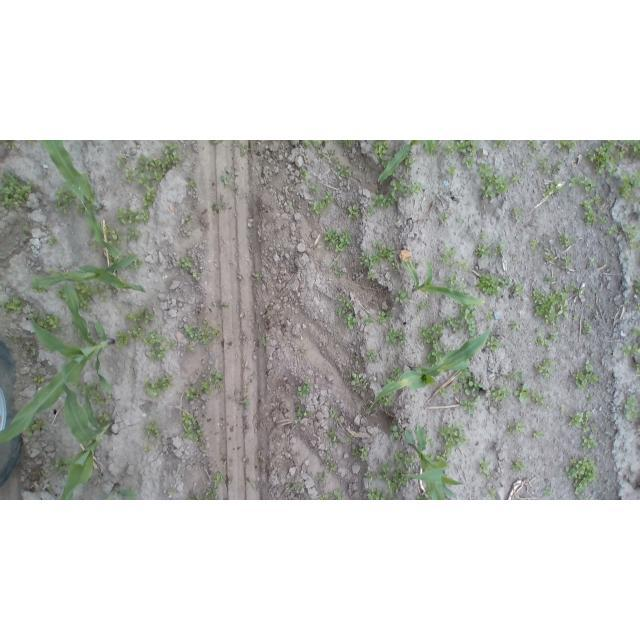Maize: (2, 272, 117, 444), (372, 315, 491, 414), (54, 360, 114, 501), (24, 253, 146, 295), (403, 426, 463, 500), (44, 141, 103, 214), (408, 255, 483, 305), (378, 141, 435, 180), (103, 485, 133, 500)
Weeds: (115, 140, 181, 224), (116, 308, 174, 361), (531, 283, 585, 328), (589, 141, 640, 176), (452, 370, 486, 415), (362, 241, 399, 281), (1, 173, 37, 213), (370, 180, 421, 207), (564, 458, 597, 499), (184, 317, 221, 353), (479, 163, 510, 202), (185, 372, 223, 403), (378, 460, 413, 493), (417, 324, 443, 368), (444, 305, 476, 338), (438, 424, 466, 461), (334, 292, 359, 331), (78, 283, 111, 312), (573, 359, 599, 389), (323, 228, 353, 253), (75, 380, 106, 404), (144, 373, 175, 397), (479, 272, 510, 296), (580, 194, 601, 224), (182, 411, 202, 441), (569, 172, 598, 192), (309, 192, 334, 215), (54, 186, 74, 214), (443, 140, 477, 156), (619, 172, 639, 199), (568, 411, 591, 433), (534, 358, 558, 378), (491, 383, 514, 403), (394, 450, 415, 470), (536, 331, 559, 349), (538, 158, 561, 176), (2, 298, 25, 315), (36, 316, 62, 331), (350, 444, 372, 461), (625, 395, 638, 420), (559, 230, 577, 248), (543, 181, 564, 196), (364, 488, 390, 500), (527, 141, 544, 159), (351, 371, 368, 389), (395, 288, 413, 305), (295, 382, 313, 399), (555, 140, 578, 153), (502, 370, 523, 384), (514, 383, 528, 404), (623, 223, 640, 240), (444, 273, 461, 290), (314, 471, 330, 489), (621, 344, 640, 359), (28, 419, 45, 435), (581, 436, 599, 451), (487, 335, 502, 353), (387, 328, 405, 343), (374, 141, 390, 157), (221, 169, 237, 185), (479, 461, 493, 479), (293, 405, 307, 423), (507, 420, 522, 436), (54, 457, 70, 472), (105, 226, 121, 241), (233, 140, 248, 156), (439, 248, 457, 261), (326, 429, 341, 444), (377, 310, 393, 324), (512, 279, 525, 296), (126, 225, 138, 243), (145, 421, 159, 436), (531, 390, 545, 405), (543, 248, 556, 264), (495, 140, 512, 152), (284, 482, 304, 492), (389, 424, 400, 442), (563, 253, 574, 271), (299, 166, 313, 180), (474, 244, 490, 256), (336, 165, 350, 178), (0, 140, 20, 149), (380, 396, 395, 408), (205, 486, 218, 499), (364, 469, 377, 482), (180, 256, 193, 269), (463, 156, 477, 168), (366, 350, 380, 362), (583, 319, 594, 334), (347, 204, 360, 216), (606, 224, 619, 236), (511, 460, 525, 471), (115, 154, 125, 169), (31, 287, 47, 296), (332, 488, 344, 500), (308, 182, 320, 194), (260, 333, 271, 346), (239, 396, 250, 409), (404, 157, 417, 168), (529, 238, 539, 252), (531, 429, 545, 439), (361, 315, 375, 325), (33, 375, 45, 386), (330, 409, 342, 420), (327, 460, 338, 472), (214, 472, 224, 485), (630, 362, 640, 375), (132, 260, 142, 272), (459, 282, 469, 294), (495, 243, 504, 256), (634, 279, 640, 298), (333, 261, 341, 275), (509, 320, 520, 330), (185, 178, 196, 188), (630, 241, 640, 251), (512, 208, 521, 219), (536, 326, 545, 337), (432, 141, 441, 152), (419, 302, 431, 310), (394, 366, 401, 379), (188, 494, 203, 500), (99, 412, 109, 421), (545, 274, 556, 282), (512, 175, 521, 184), (76, 204, 85, 213), (438, 388, 447, 397), (544, 487, 552, 497), (24, 223, 32, 233), (188, 270, 198, 278), (301, 140, 311, 148), (460, 261, 468, 271), (630, 328, 638, 338), (417, 494, 430, 500), (208, 140, 223, 145), (167, 487, 176, 495), (486, 312, 494, 321), (144, 445, 153, 453), (183, 218, 192, 226), (488, 488, 497, 496), (560, 405, 569, 413), (441, 213, 448, 223), (340, 140, 353, 145), (600, 216, 608, 224), (448, 166, 456, 174), (48, 236, 56, 244), (198, 441, 206, 449), (427, 438, 435, 446), (367, 208, 376, 215), (319, 494, 329, 500), (589, 256, 596, 264), (317, 150, 325, 157), (252, 274, 263, 279), (313, 140, 322, 146), (481, 233, 488, 240), (587, 303, 595, 309), (522, 162, 534, 166), (24, 140, 36, 144), (382, 160, 389, 166), (635, 302, 640, 310), (301, 347, 306, 354), (449, 262, 456, 267), (587, 395, 591, 401), (592, 428, 597, 432), (242, 386, 248, 389), (456, 217, 461, 220)
